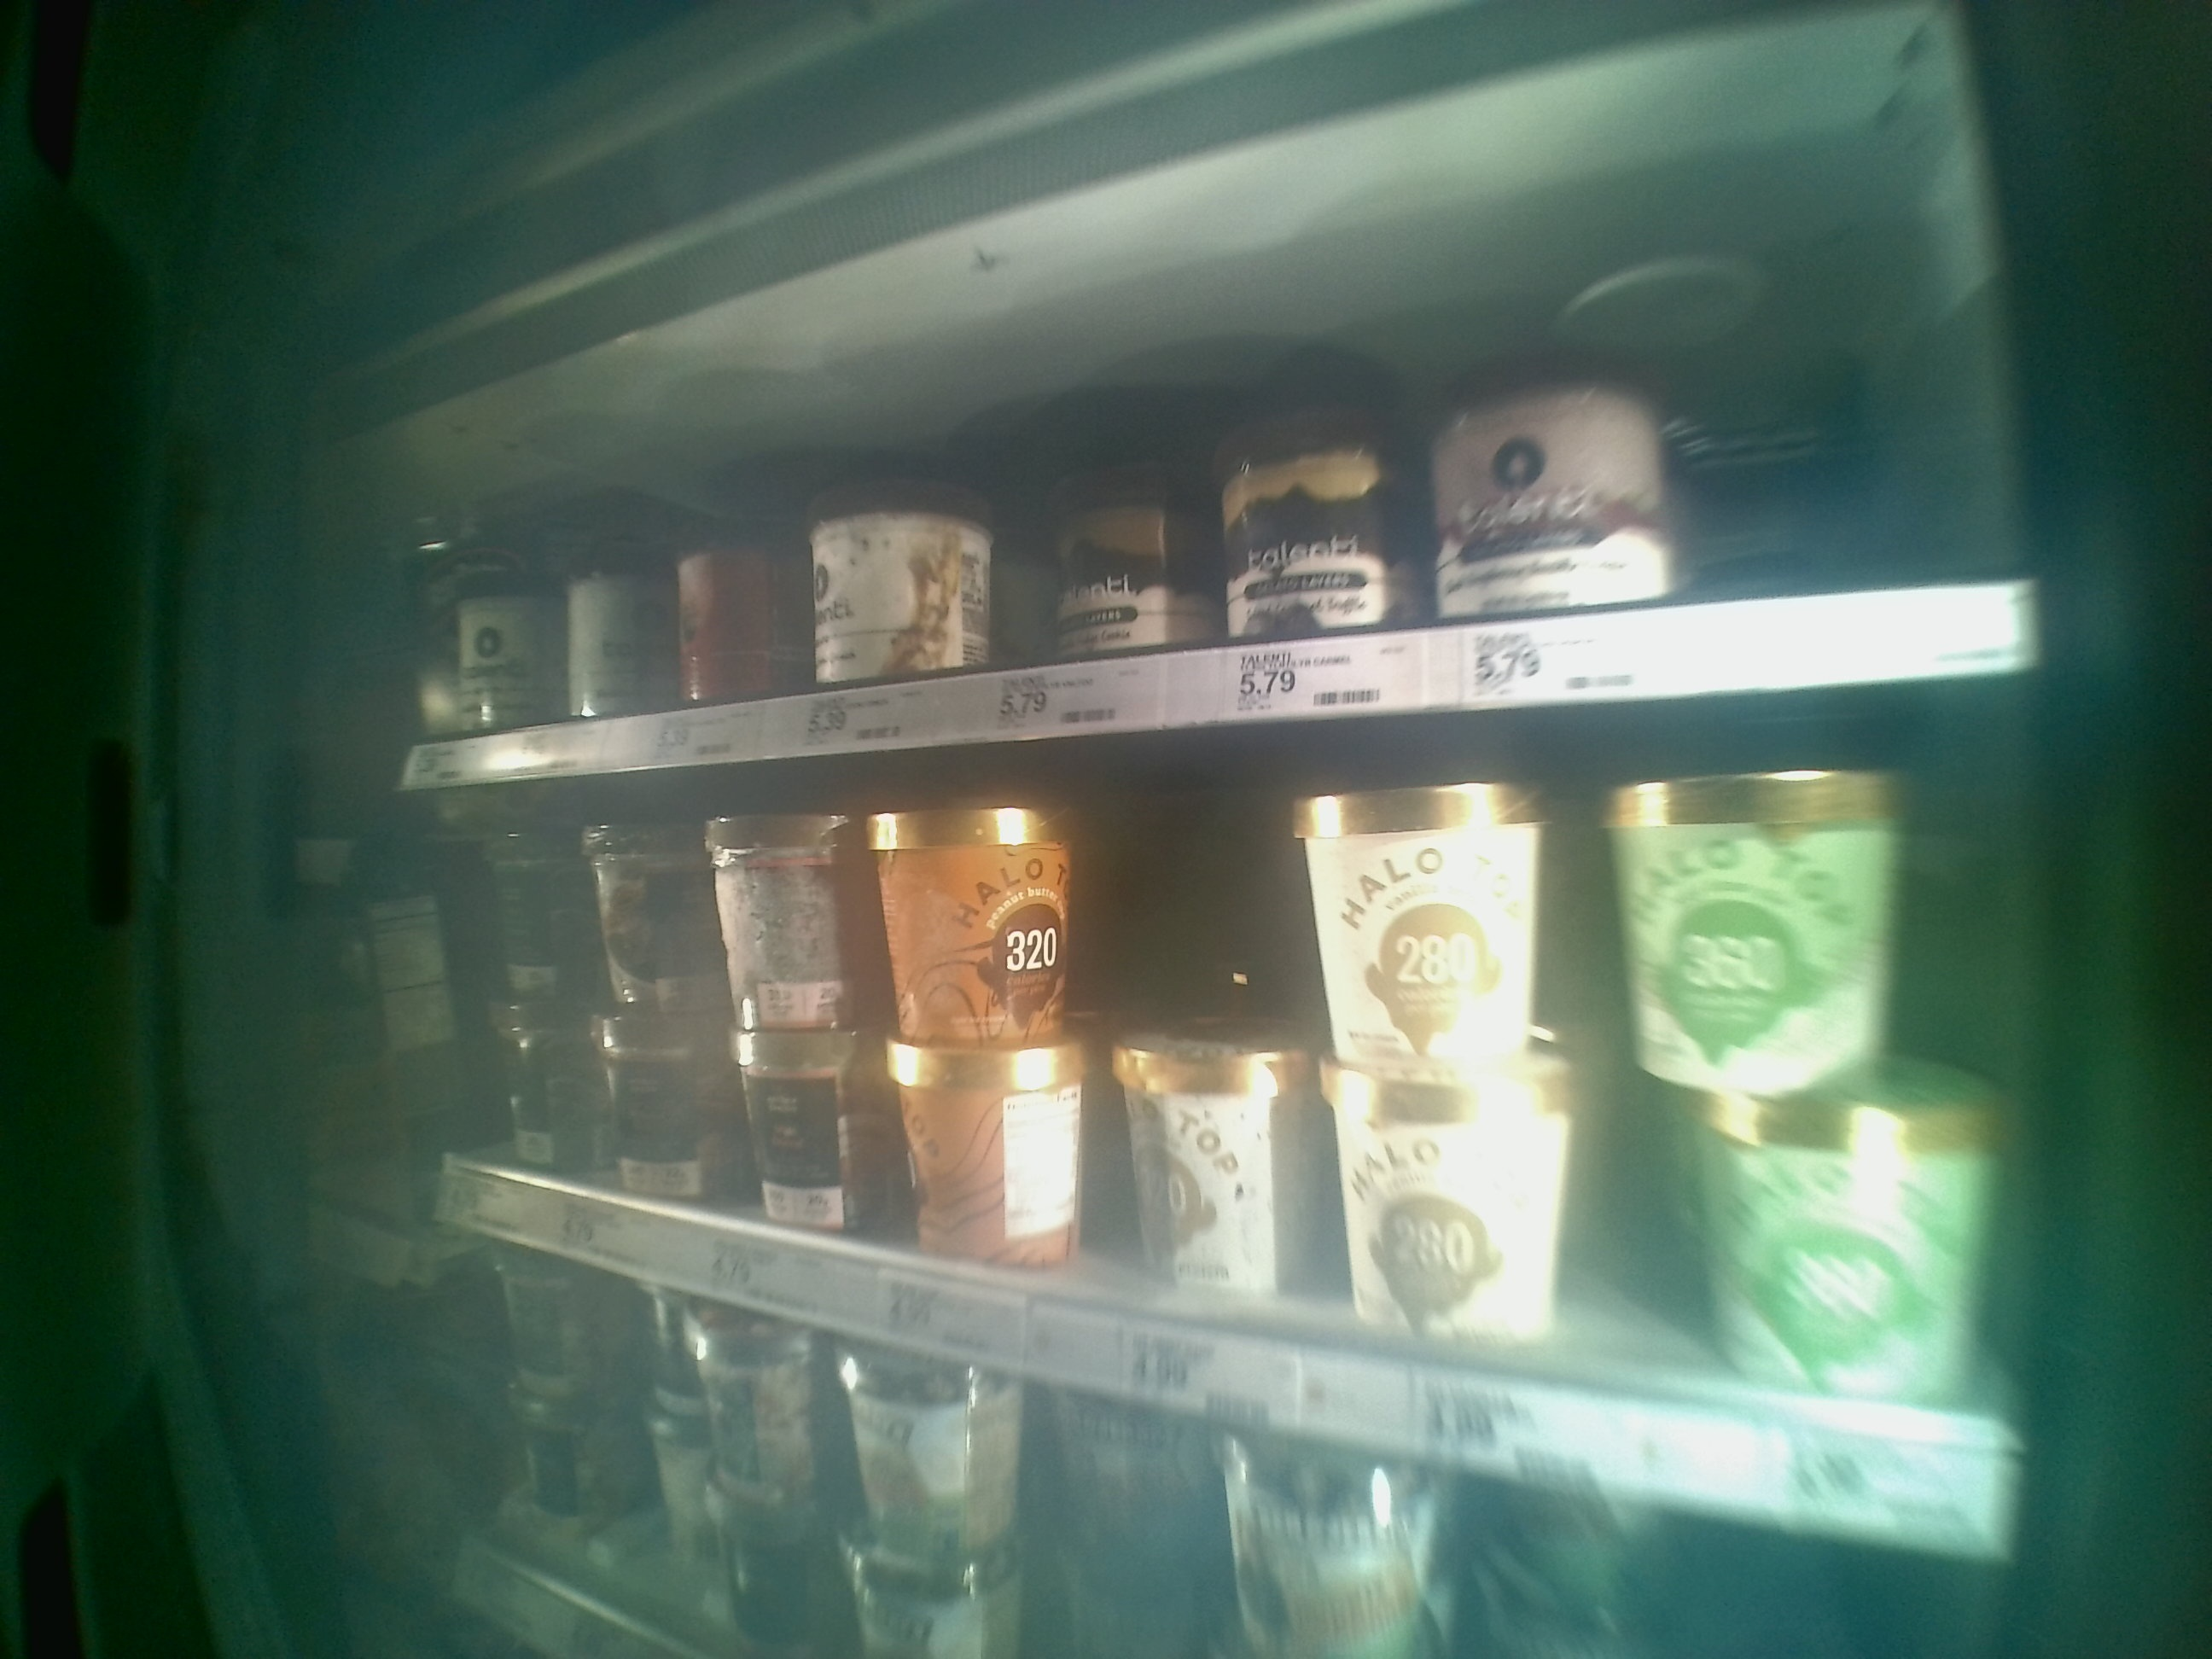shelf: (425, 667, 2033, 1560), (406, 214, 2031, 779)
